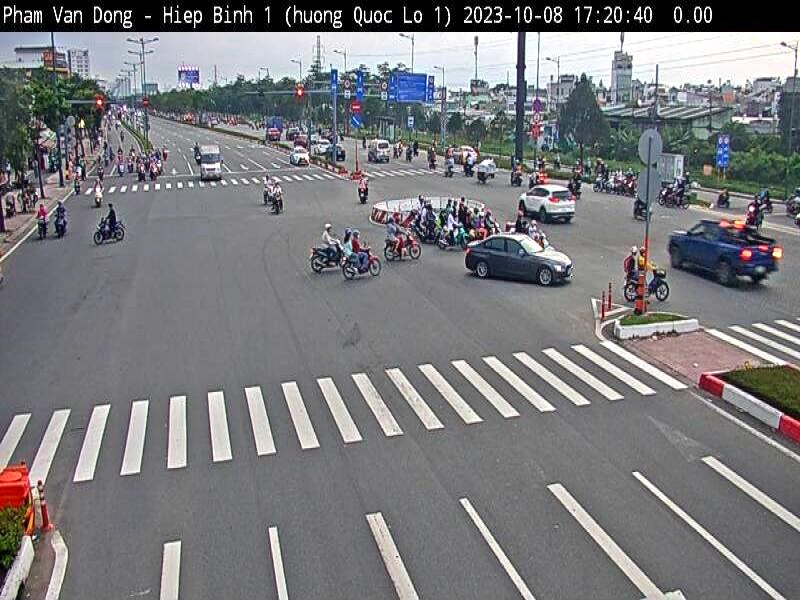car: (462, 231, 574, 287)
motorcycle: (624, 264, 675, 303), (343, 242, 383, 283), (310, 244, 346, 277), (90, 211, 126, 243)
